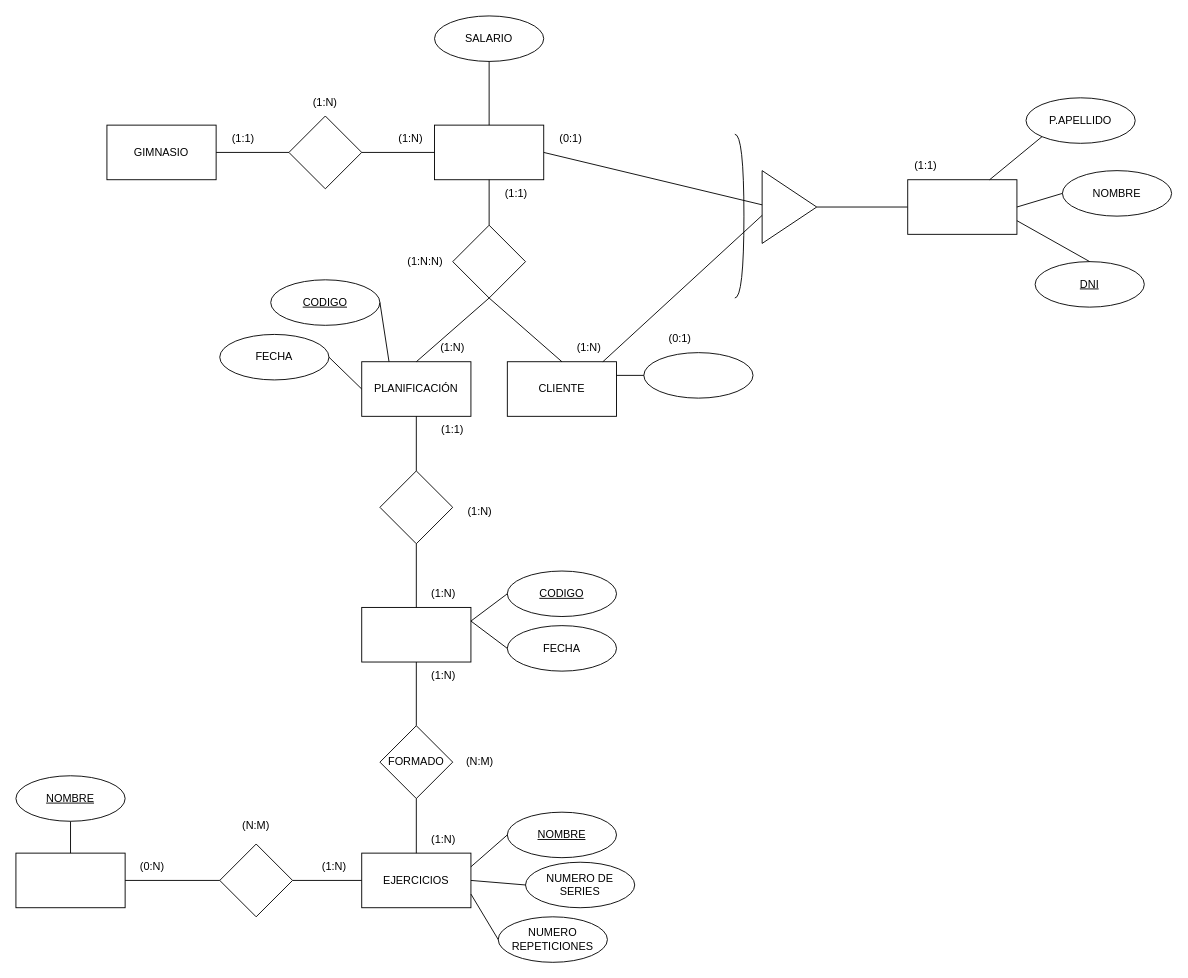
This 1188x978 diagram has some shape labels left out. Each missing label, with the centre of its shape:
"CREA" belongs at pixel 489 261.
"ENTRENADOR" belongs at pixel 489 152.
"ENTRENAMIENTO" belongs at pixel 416 634.
"FECHA DE ALTA" belongs at pixel 698 375.
"FORMADA" belongs at pixel 416 507.
"MATERIAL" belongs at pixel 70 880.
"PERSONA" belongs at pixel 962 206.
"TRABAJA" belongs at pixel 325 152.
"UTILIZA" belongs at pixel 256 880.
